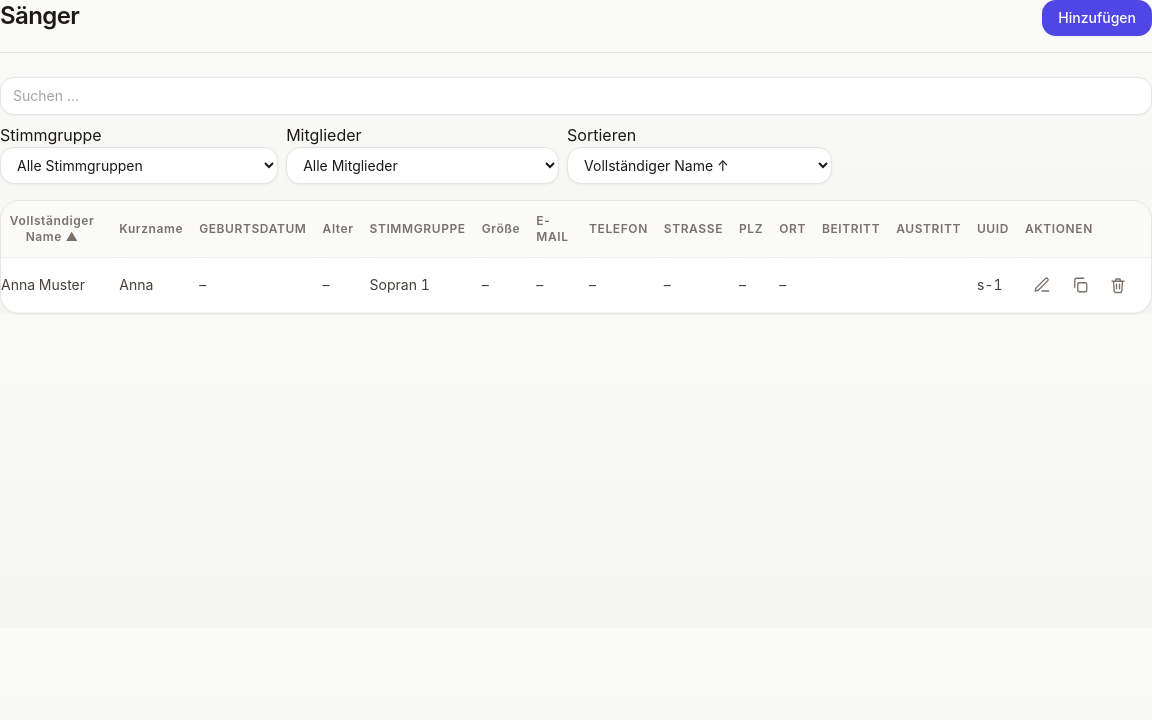
SingersPage mutations › creates a singer via dialog
Expected: the text "Anna Muster" is shown, [1,258,119,312]
Click the button "Hinzufügen" at coordinates (1097, 18), box [1042,0,1151,36]
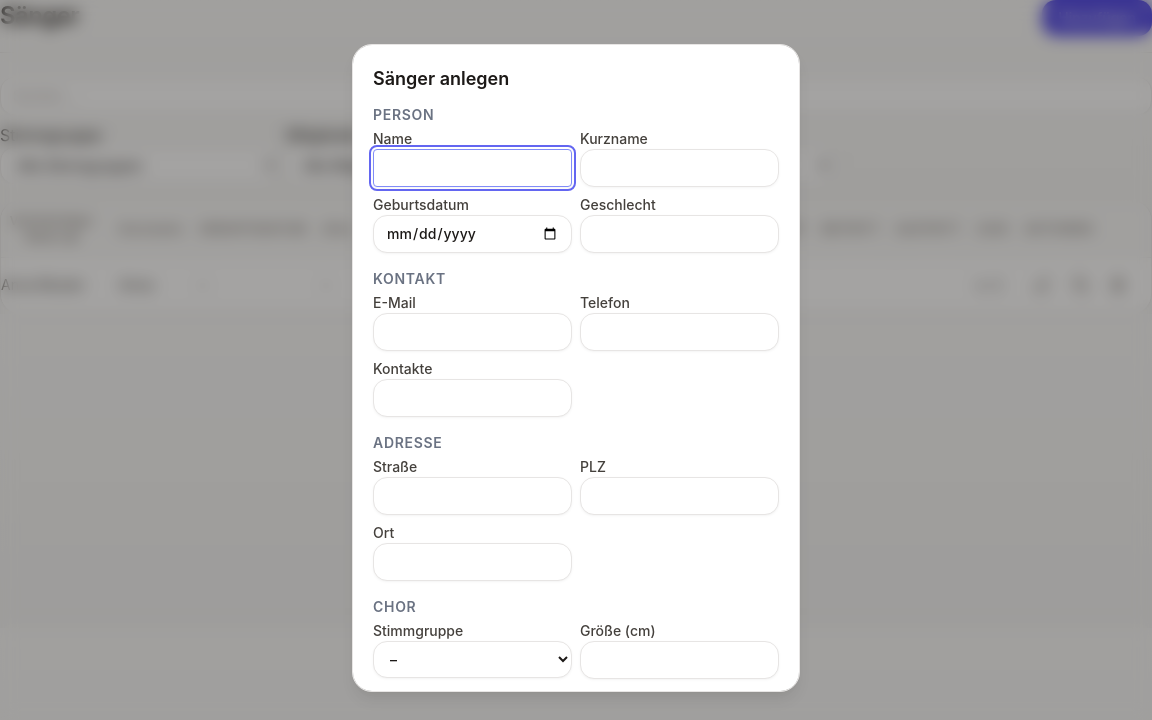
Type "Clara Neu" into the field labelled "Name" at coordinates (472, 168), box [373,149,572,187]
(page scrolled)
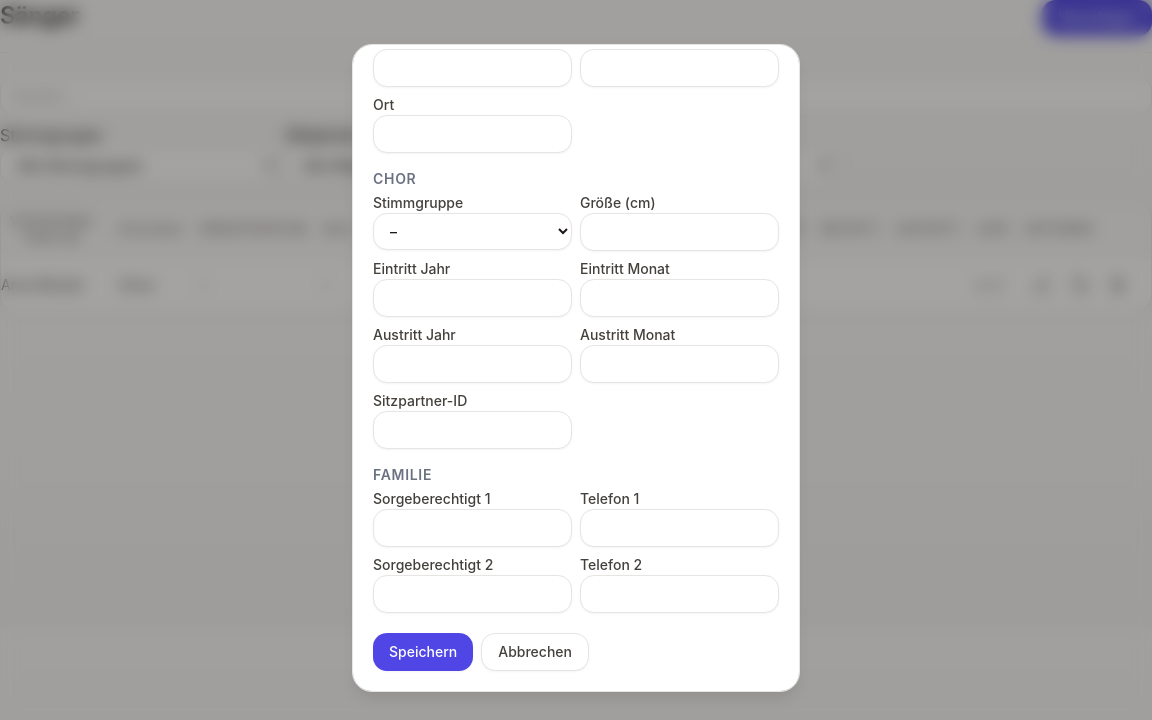
Click the button "Speichern" at coordinates (423, 652), box [373,633,473,671]
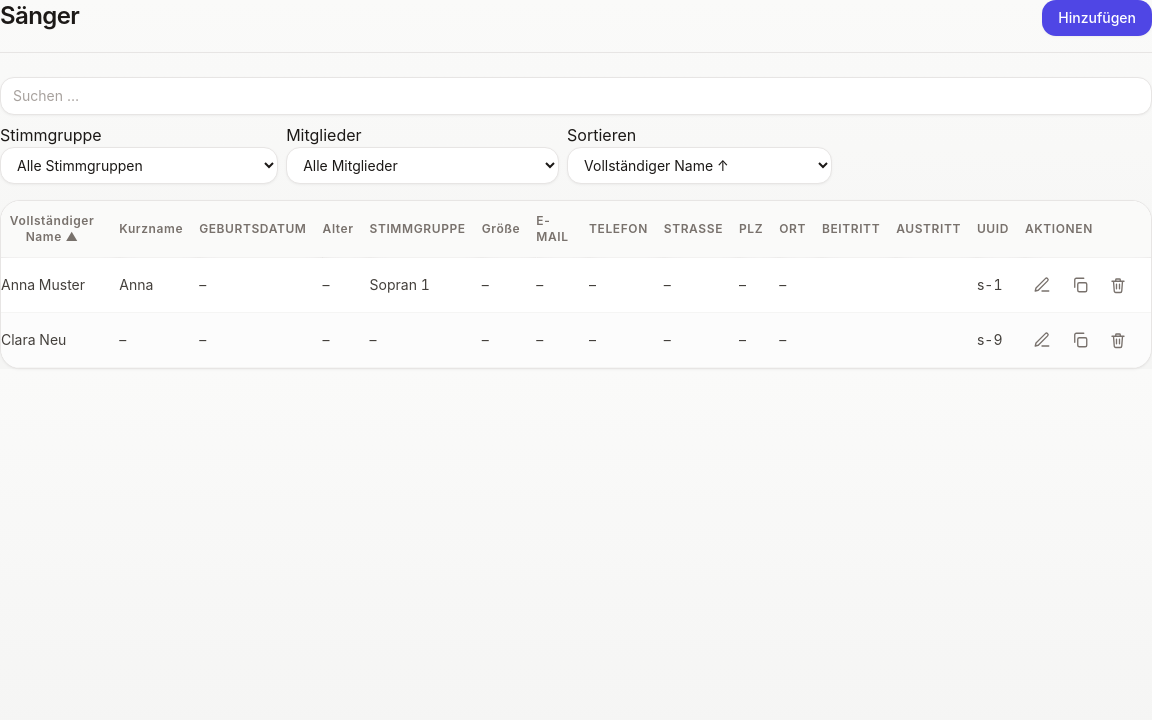
Result: the text "Clara Neu" is shown at [1,312,119,368]
